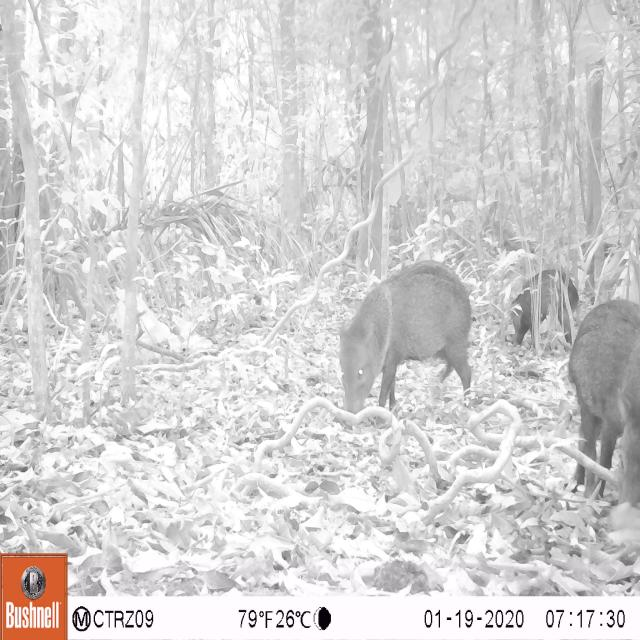Collared Peccary: (322, 250, 486, 409), (549, 290, 640, 512), (500, 259, 579, 347)
